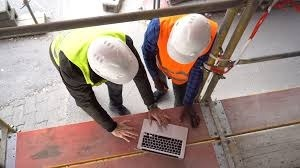helmet: (164, 10, 218, 66), (85, 33, 139, 86)
person with full safety: (49, 30, 154, 143), (145, 14, 219, 103)
safety vest: (157, 16, 215, 84), (49, 31, 124, 81)
